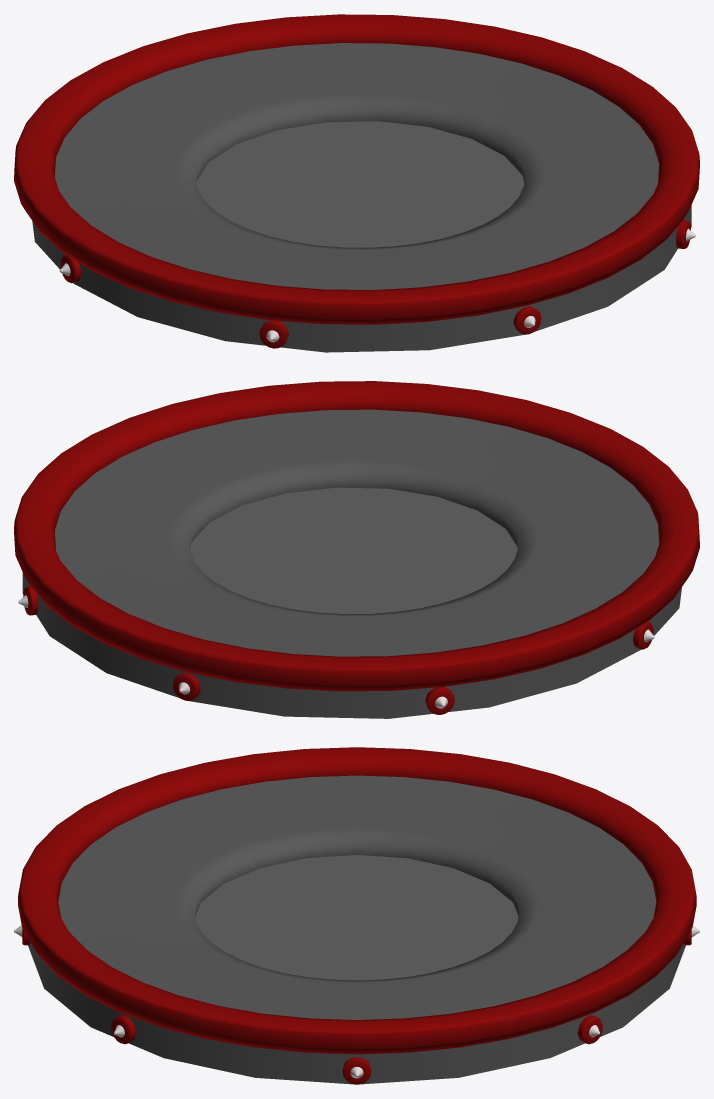
The model's file is Launch.fbx.
The picture shows the model from 3 angles, top to bottom: view 1: azimuth 30°, elevation 25°; view 2: azimuth 150°, elevation 25°; view 3: azimuth 270°, elevation 25°; orthographic projection.
Parts seen in each view (by area): view 1: pCylinder1, pCylinder2, pPlane1, pCylinder8, pCylinder9; view 2: pCylinder1, pCylinder2, pPlane1, pCylinder6, pCylinder5; view 3: pCylinder1, pCylinder2, pPlane1, pCylinder3, pCylinder4, pCylinder10.
Part boxes in pixels (bbox=[...]): pCylinder1: bbox=[32, 43, 691, 352]; pCylinder2: bbox=[14, 14, 699, 324]; pPlane1: bbox=[196, 121, 523, 247]; pCylinder8: bbox=[259, 320, 288, 348]; pCylinder9: bbox=[513, 306, 541, 334]; pCylinder1: bbox=[22, 409, 681, 718]; pCylinder2: bbox=[14, 381, 699, 691]; pPlane1: bbox=[190, 487, 517, 614]; pCylinder6: bbox=[425, 686, 454, 714]; pCylinder5: bbox=[173, 672, 200, 700]; pCylinder1: bbox=[28, 775, 685, 1084]; pCylinder2: bbox=[18, 747, 696, 1054]; pPlane1: bbox=[195, 855, 518, 980]; pCylinder3: bbox=[342, 1057, 371, 1084]; pCylinder4: bbox=[577, 1015, 602, 1044]; pCylinder10: bbox=[111, 1015, 136, 1044].
Size of the model in its own units: 3.47 by 0.3108 by 3.47.
